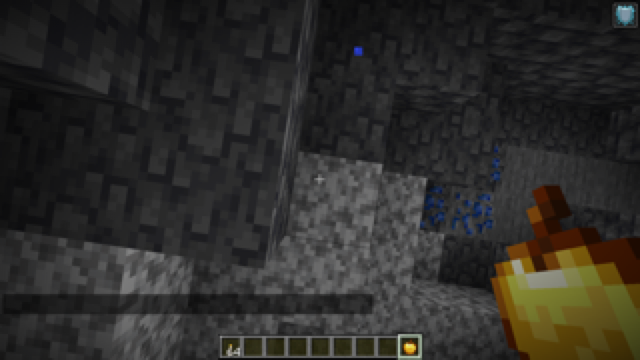lapis: (420, 142, 502, 235)
